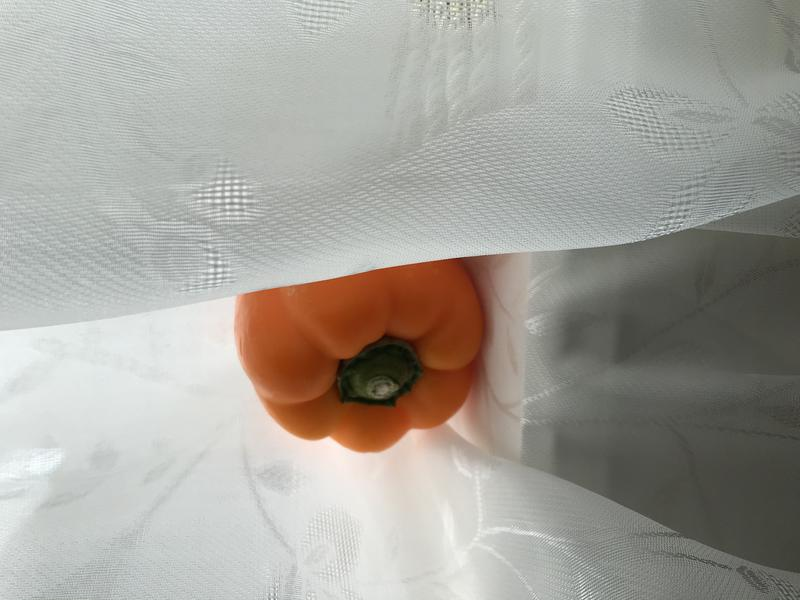orange_pepper: (219, 224, 494, 461)
